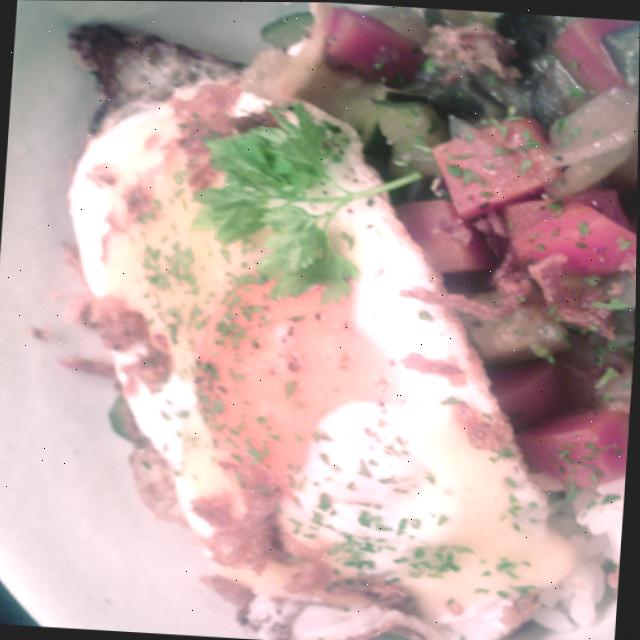鸡蛋料理: (33, 24, 621, 640)
